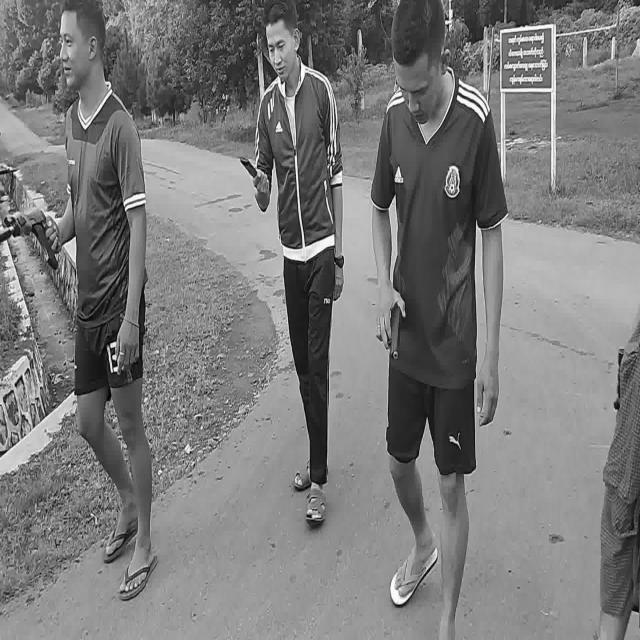gun: (2, 209, 59, 268), (390, 306, 400, 356)
